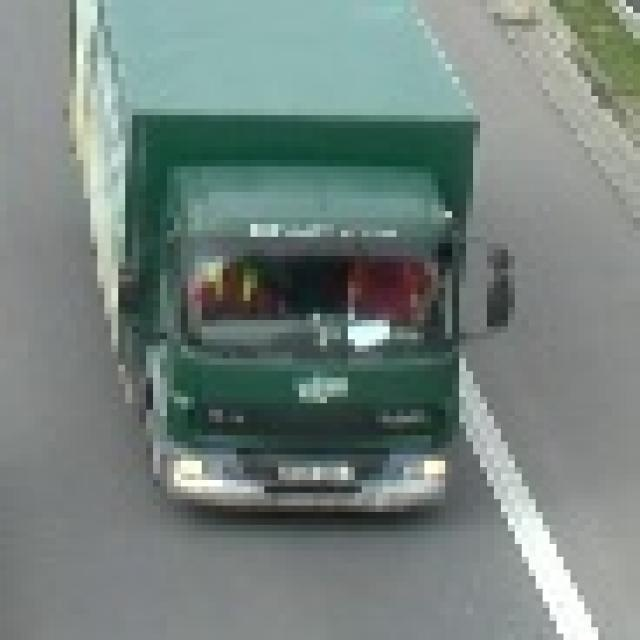Truck: (56, 0, 514, 525)
